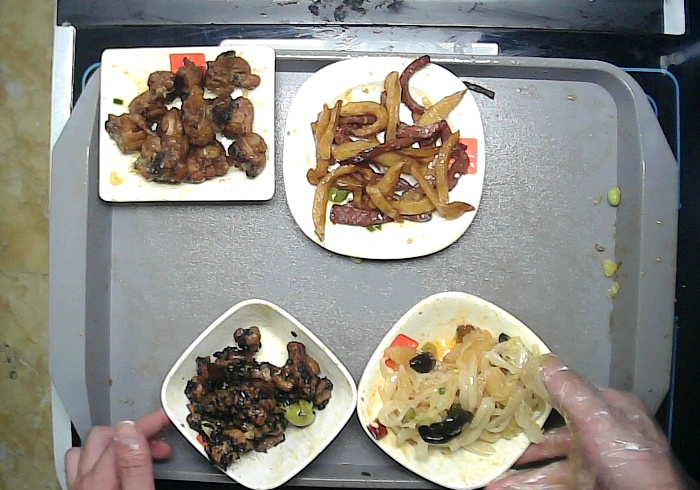SHKJ-Bai_Se_Cai_Die: (356, 291, 556, 490)
SHKJ-Bai_Se_Si_Fang_Cai_Die: (284, 55, 486, 258)
SHKJ-Bai_Se_Xiao_Fang_Die: (158, 297, 358, 490)
SHKJ-Si_Fang_Min: (98, 47, 275, 204)
